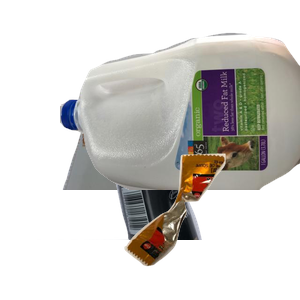glass: (37, 120, 231, 300)
metal: (60, 82, 300, 262)
plastic: (60, 30, 300, 210)
trash: (122, 151, 300, 300)
